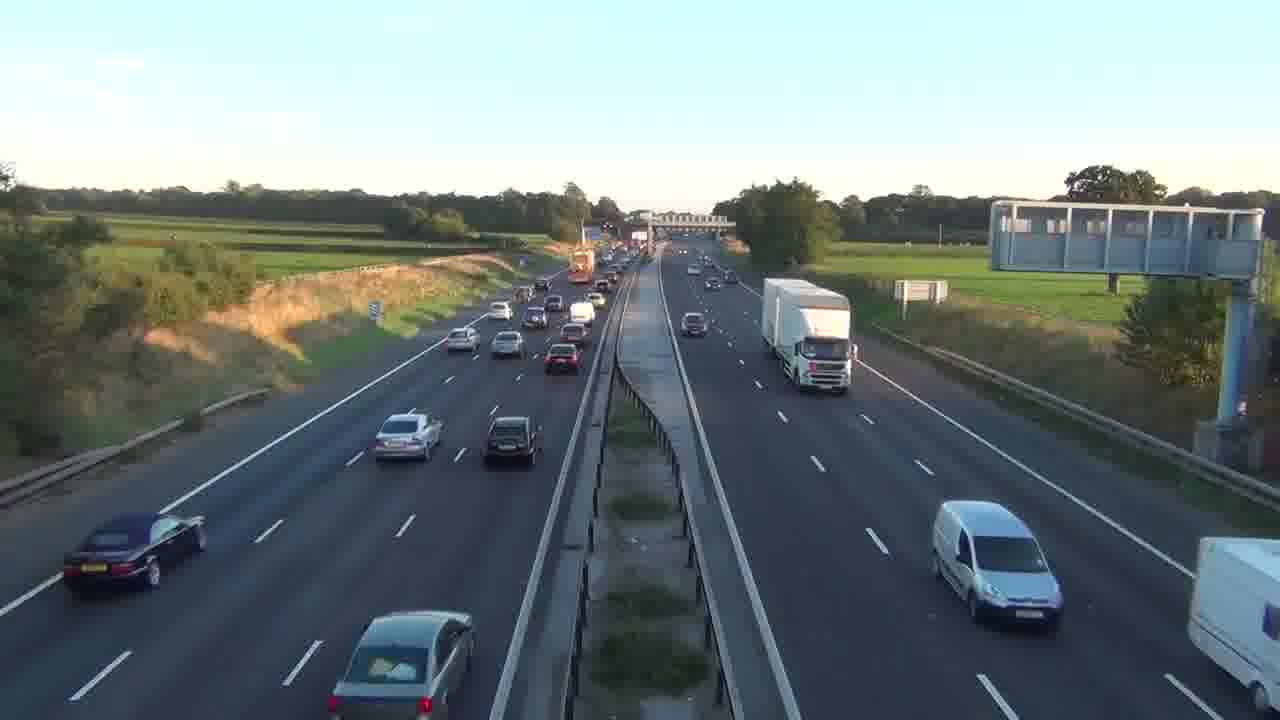car: (929, 498, 1065, 633), (325, 608, 477, 719), (372, 410, 446, 462), (483, 415, 538, 465), (544, 342, 581, 374), (445, 326, 480, 354), (490, 330, 523, 359), (680, 312, 707, 337)
truck: (929, 498, 1065, 633), (1186, 535, 1280, 714), (62, 510, 207, 599), (760, 276, 853, 395)
